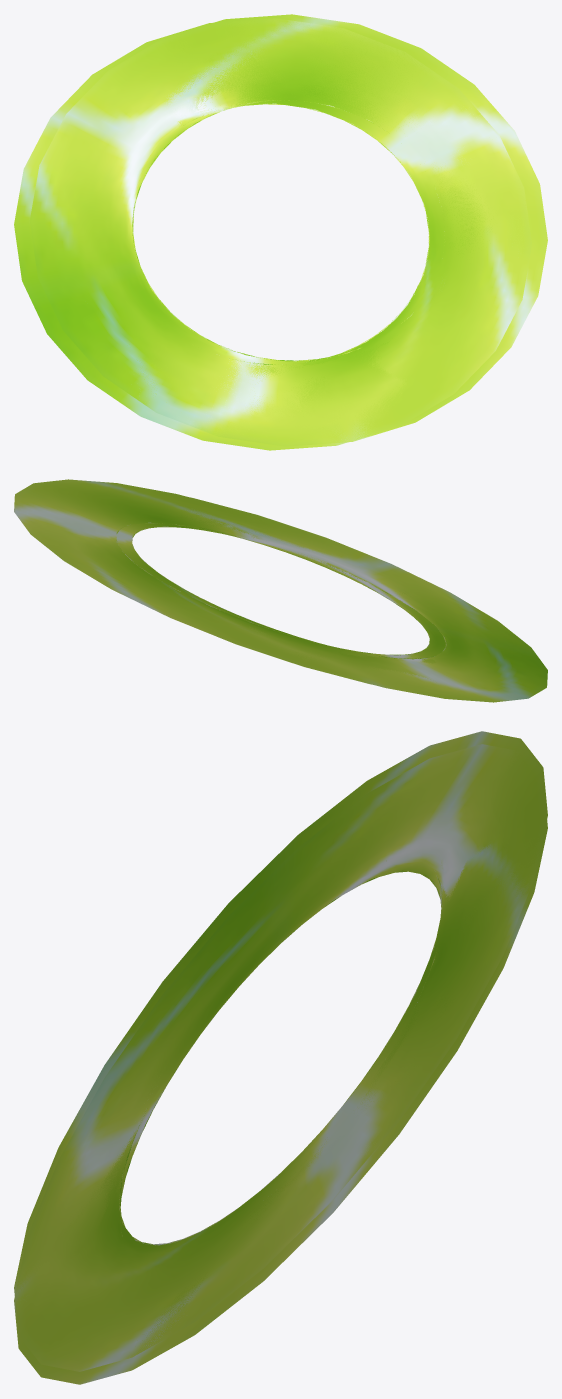
The model's file is WindField.fbx.
The picture shows the model from 3 angles, top to bottom: view 1: azimuth 30°, elevation 25°; view 2: azimuth 150°, elevation 25°; view 3: azimuth 270°, elevation 25°; orthographic projection. The views are drawn at different scales.
Parts seen in each view (by area): view 1: Eff_Model_WindField_Vertical_Appear_Cylinder_01, Eff_Model_WindField_Vertical_Appear_Cylinder_02; view 2: Eff_Model_WindField_Vertical_Appear_Cylinder_01, Eff_Model_WindField_Vertical_Appear_Cylinder_02; view 3: Eff_Model_WindField_Vertical_Appear_Cylinder_02, Eff_Model_WindField_Vertical_Appear_Cylinder_01.
Boxes of the visible parts, x1,y1,x2,y2 form: Eff_Model_WindField_Vertical_Appear_Cylinder_01: (29, 14, 547, 446); Eff_Model_WindField_Vertical_Appear_Cylinder_02: (14, 18, 532, 450); Eff_Model_WindField_Vertical_Appear_Cylinder_01: (14, 479, 447, 689); Eff_Model_WindField_Vertical_Appear_Cylinder_02: (116, 496, 547, 702); Eff_Model_WindField_Vertical_Appear_Cylinder_02: (14, 731, 547, 1371); Eff_Model_WindField_Vertical_Appear_Cylinder_01: (14, 744, 547, 1384).
Bounding box in the file's own units: 1319 × 740 × 719.
